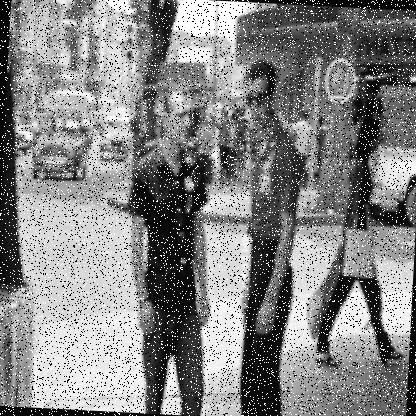Car: (30, 93, 94, 182), (96, 108, 129, 159), (18, 112, 46, 148), (11, 119, 33, 154)
